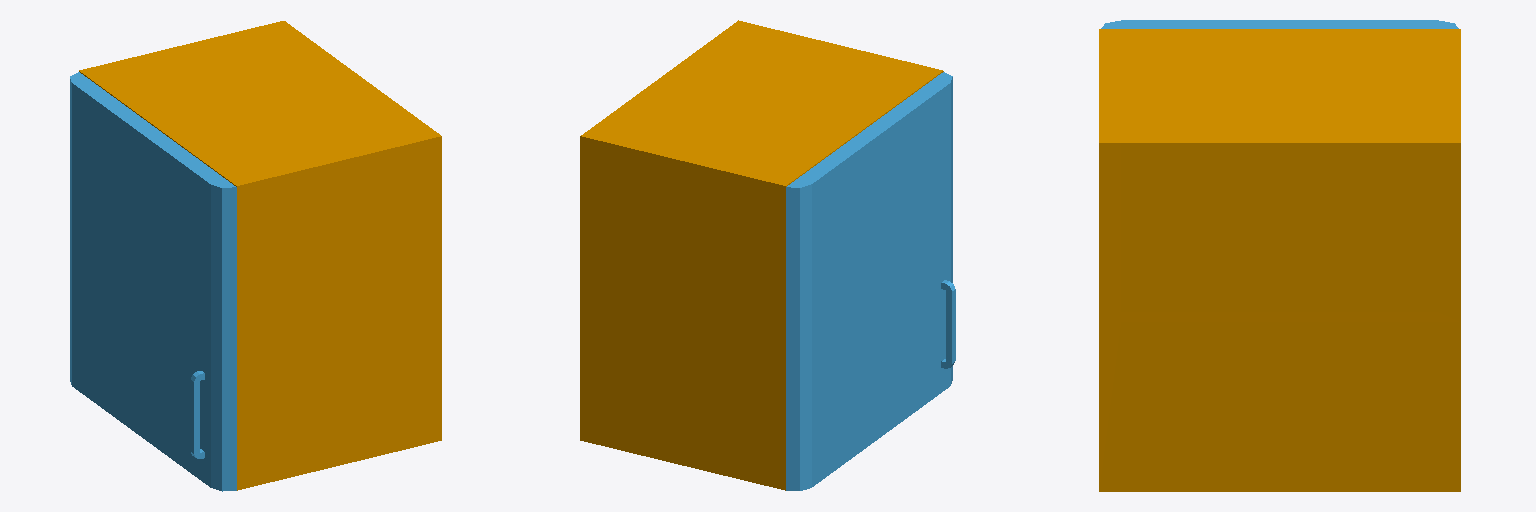
URDF robot description (HangingCabinet):
<robot name="HangingCabinet">
    <link name="corpus">
        <visual>
            <geometry>
                <mesh filename="meshes/corpus.obj"/>
            </geometry>
        </visual>
        <collision>
            <geometry>
                <mesh filename="meshes/corpus.obj"/>
            </geometry>
        </collision>
    </link>
    <link name="door">
        <visual>
            <geometry>
                <mesh filename="meshes/door.obj"/>
            </geometry>
        </visual>
        <collision>
            <geometry>
                <mesh filename="meshes/door.obj"/>
            </geometry>
        </collision>
    </link>

    <joint name="door_hinge" type="revolute">
        <origin xyz="0.0 0.0 0.0" rpy="0.0 0.0 0.0"/>
        <parent link="corpus"/>
        <child link="door"/>
        <axis xyz=".0 0.0 -1.0"/>
        <limit lower="0.0" upper="2.0944" effort="100.0" velocity="100.0"/>
    </joint>
</robot>

--- Facts derived from the render (not from the file) ---
The picture shows the robot from 3 angles, left to right: view 1: azimuth 30°, elevation 25°; view 2: azimuth 150°, elevation 25°; view 3: azimuth 270°, elevation 25°; orthographic projection.
Model HangingCabinet with 2 links and 1 joints (1 revolute), rooted at corpus, posed every joint at zero.
Visible links, largest first — view 1: corpus, door; view 2: corpus, door; view 3: corpus, door.
Link boxes in pixels (x1,y1,x2,y2): corpus: [79, 21, 441, 490]; door: [70, 72, 236, 491]; corpus: [580, 20, 943, 490]; door: [786, 72, 955, 490]; corpus: [1099, 29, 1460, 491]; door: [1101, 20, 1458, 28].
Bounding box of the posed robot: 0.0979 × 0.1152 × 0.1225 m (x, y, z).
Meshes: 2 distinct files referenced, 2 mesh visuals loaded (2 OBJ).